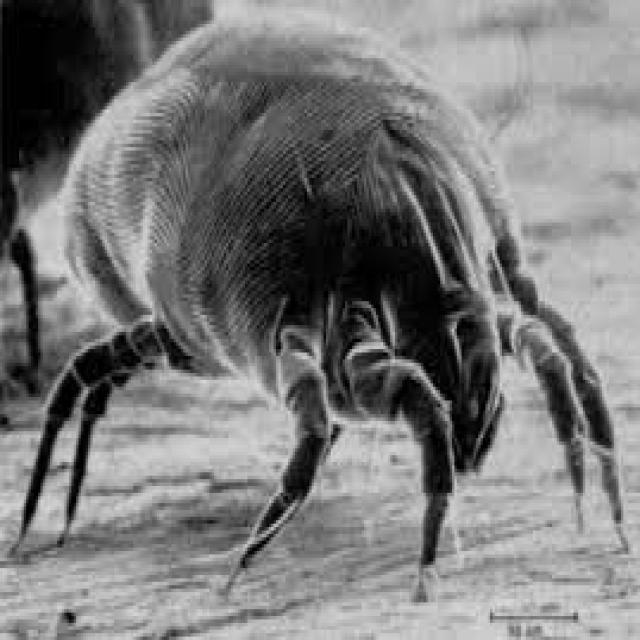Mites: (8, 8, 630, 609)
